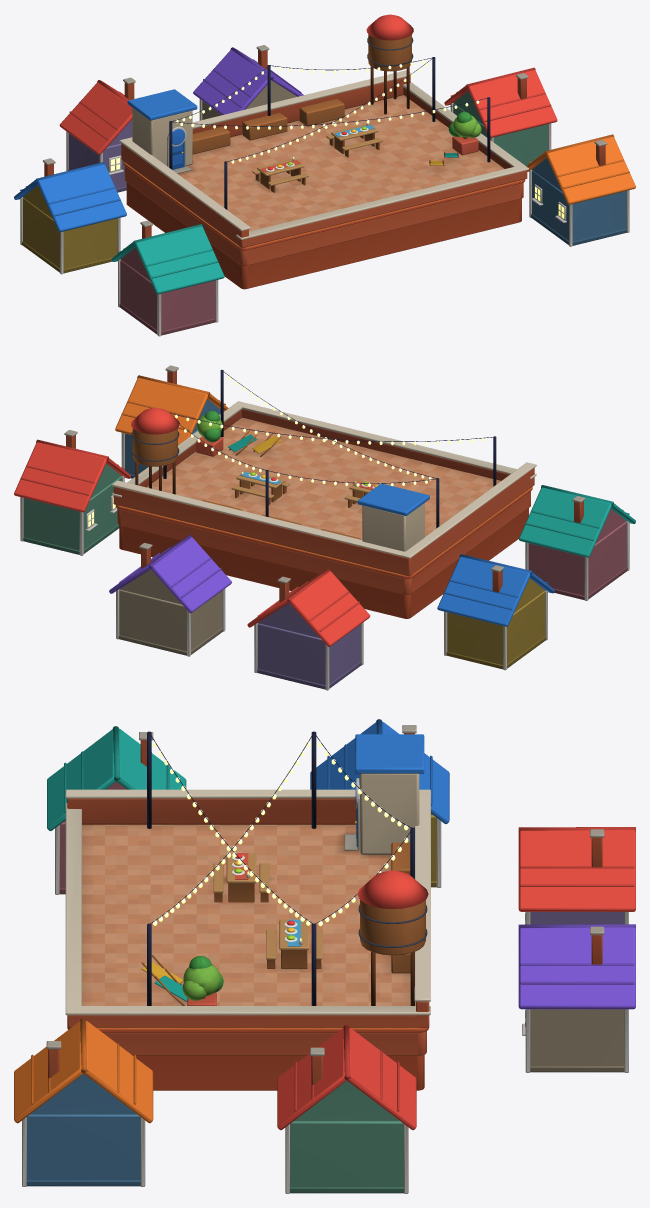
File: rooftop.glb
The picture shows the model from 3 angles, top to bottom: view 1: azimuth 30°, elevation 25°; view 2: azimuth 150°, elevation 25°; view 3: azimuth 270°, elevation 25°; orthographic projection. The views are drawn at different scales.
Parts seen in each view (by area): view 1: rooftop_Satin, rooftop_Gloss, rooftop_Matte, rooftop_Glow_warm; view 2: rooftop_Satin, rooftop_Gloss, rooftop_Matte, rooftop_Glow_warm; view 3: rooftop_Satin, rooftop_Gloss, rooftop_Matte, rooftop_Glow_warm.
Boxes of the visible parts, left/top/right/bottom form: rooftop_Satin: left=20, top=34, right=629, bottom=336; rooftop_Gloss: left=14, top=14, right=635, bottom=294; rooftop_Matte: left=123, top=162, right=525, bottom=250; rooftop_Glow_warm: left=111, top=60, right=564, bottom=218; rooftop_Satin: left=20, top=365, right=629, bottom=690; rooftop_Gloss: left=14, top=370, right=635, bottom=646; rooftop_Matte: left=116, top=487, right=532, bottom=578; rooftop_Glow_warm: left=88, top=376, right=484, bottom=526; rooftop_Satin: left=22, top=725, right=628, bottom=1193; rooftop_Gloss: left=14, top=719, right=635, bottom=1130; rooftop_Matte: left=67, top=1026, right=429, bottom=1032; rooftop_Glow_warm: left=153, top=741, right=408, bottom=940.
Bounding box in the file's own units: 25.56 × 7.8 × 18.9.
